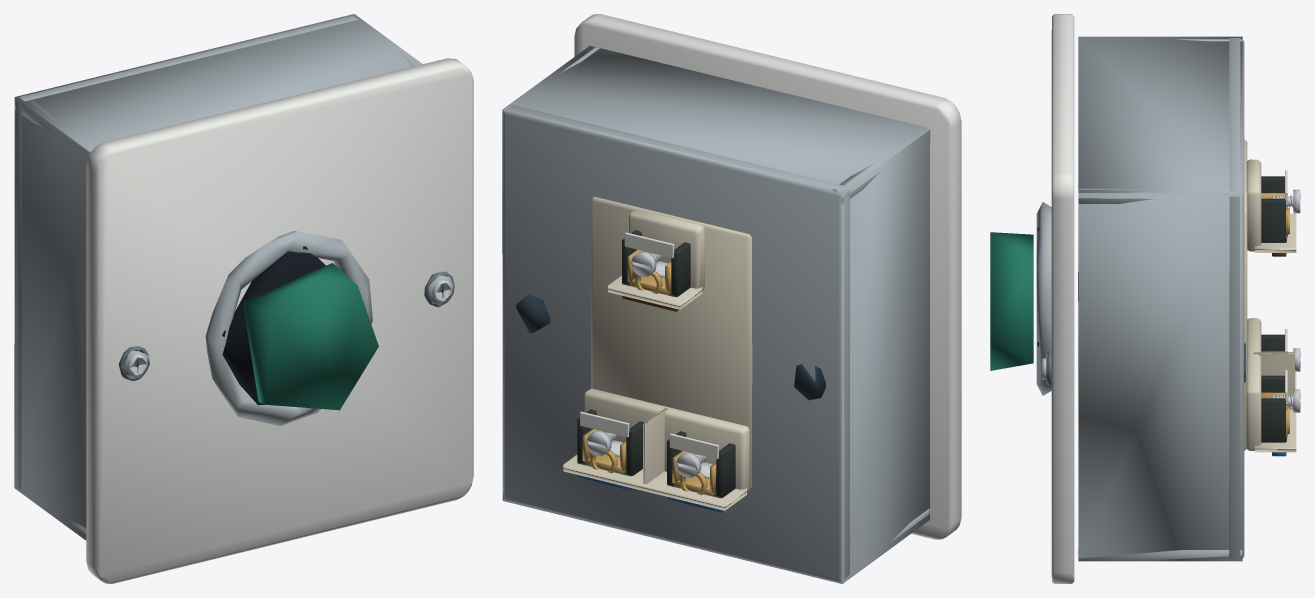
The model's file is pushbutton_start-button.low.glb.
3 renders of one model, left to right at view 1: azimuth 30°, elevation 25°; view 2: azimuth 150°, elevation 25°; view 3: azimuth 270°, elevation 25°, orthographic. The views are drawn at different scales.
Parts seen in each view (by area): view 1: part:cover, part:body · Original 2a8198d3, motion:push-cap, part:actuator, detail:faceplate-fixing · Detail zinc plated fixing, part:cover · Original 0905ee26; view 2: part:body · Original 2a8198d3, part:terminals · Original 5a609f27, part:cover, part:body · Original a463fd81, detail:terminal-clamp:COM · Detail moulded engineering polym, detail:terminal-clamp:NO · Detail moulded engineering polyme, detail:terminal-clamp:NC · Detail moulded engineering polyme, detail:terminal-clamp:NC · Detail machined brass, detail:terminal-clamp:COM · Detail machined brass, detail:terminal-clamp:NO · Detail machined brass, Moulded terminal legend pad, Moulded terminal legend pad.001 (+4 smaller); view 3: part:body · Original 2a8198d3, part:cover, part:terminals · Original 5a609f27, motion:push-cap, part:actuator, detail:terminal-clamp:NC · Detail moulded engineering polyme, detail:terminal-clamp:COM · Detail moulded engineering polym, detail:terminal-clamp:NO · Detail moulded engineering polyme.
Boxes of the visible parts, x1,y1,x2,y2 form: part:cover: (86,58,473,583); part:body · Original 2a8198d3: (14,14,422,540); motion:push-cap: (243,263,378,410); part:actuator: (205,231,372,425); detail:faceplate-fixing · Detail zinc plated fixing: (127,280,452,376); part:cover · Original 0905ee26: (118,271,454,380); part:body · Original 2a8198d3: (502,45,930,583); part:terminals · Original 5a609f27: (563,197,752,510); part:cover: (574,14,961,539); part:body · Original a463fd81: (515,294,825,400); detail:terminal-clamp:COM · Detail moulded engineering polym: (622,230,690,297); detail:terminal-clamp:NO · Detail moulded engineering polyme: (667,431,735,498); detail:terminal-clamp:NC · Detail moulded engineering polyme: (577,409,644,476); detail:terminal-clamp:NC · Detail machined brass: (582,429,626,473); detail:terminal-clamp:COM · Detail machined brass: (627,249,671,294); detail:terminal-clamp:NO · Detail machined brass: (672,450,716,495); Moulded terminal legend pad: (624,232,674,258); Moulded terminal legend pad.001: (669,433,718,459); part:body · Original 2a8198d3: (1078,36,1244,561); part:cover: (1051,14,1074,583); part:terminals · Original 5a609f27: (1244,139,1296,452); motion:push-cap: (990,232,1033,370); part:actuator: (1036,202,1051,395); detail:terminal-clamp:NC · Detail moulded engineering polyme: (1261,375,1286,442); detail:terminal-clamp:COM · Detail moulded engineering polym: (1261,176,1286,242); detail:terminal-clamp:NO · Detail moulded engineering polyme: (1261,334,1284,351).
Bounding box in the file's own units: 0.8902 × 0.9795 × 0.6727.
